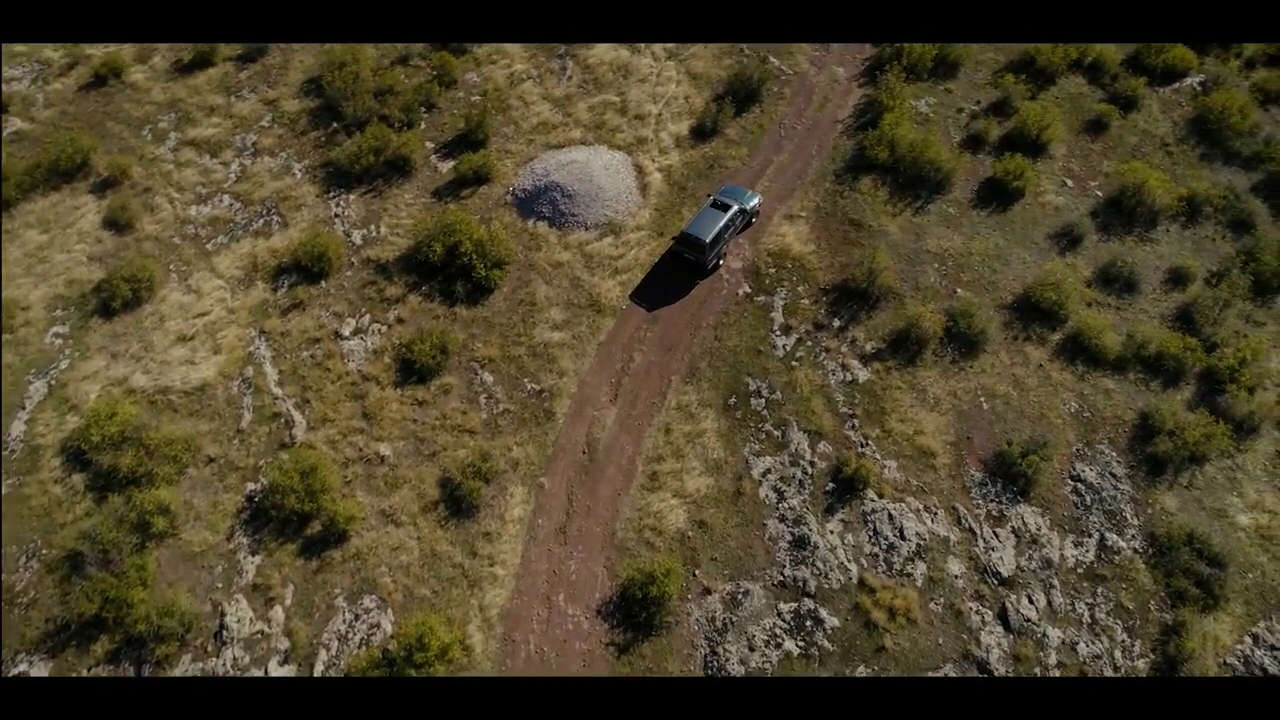araba: (666, 181, 765, 273)
